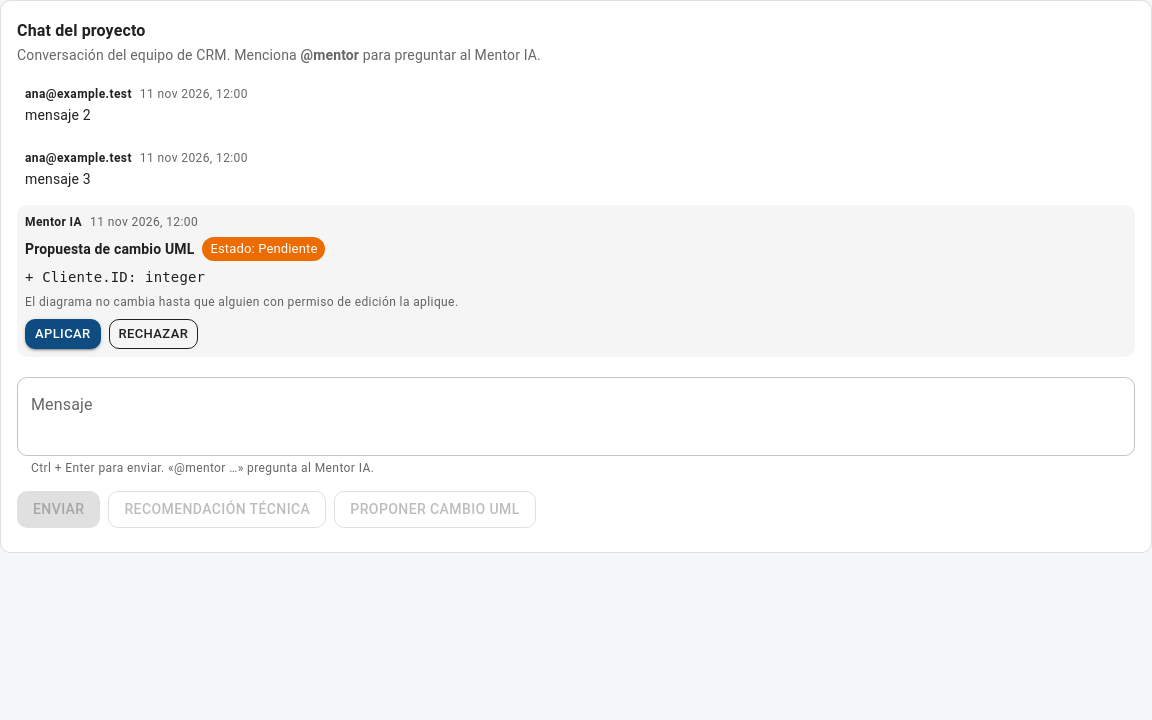
Test case: ProjectChatPanel (CU-2P-08) › una tarjeta de propuesta muestra el diff y su estado público, y la acción refresca el estado
Expected: the text "mensaje 3" is shown, [25, 171, 91, 187]
Expected: the text "+ Cliente.ID: integer" is shown, [25, 269, 205, 285]
Step 1. Click the button "Aplicar" → (63, 334), box [25, 319, 100, 350]
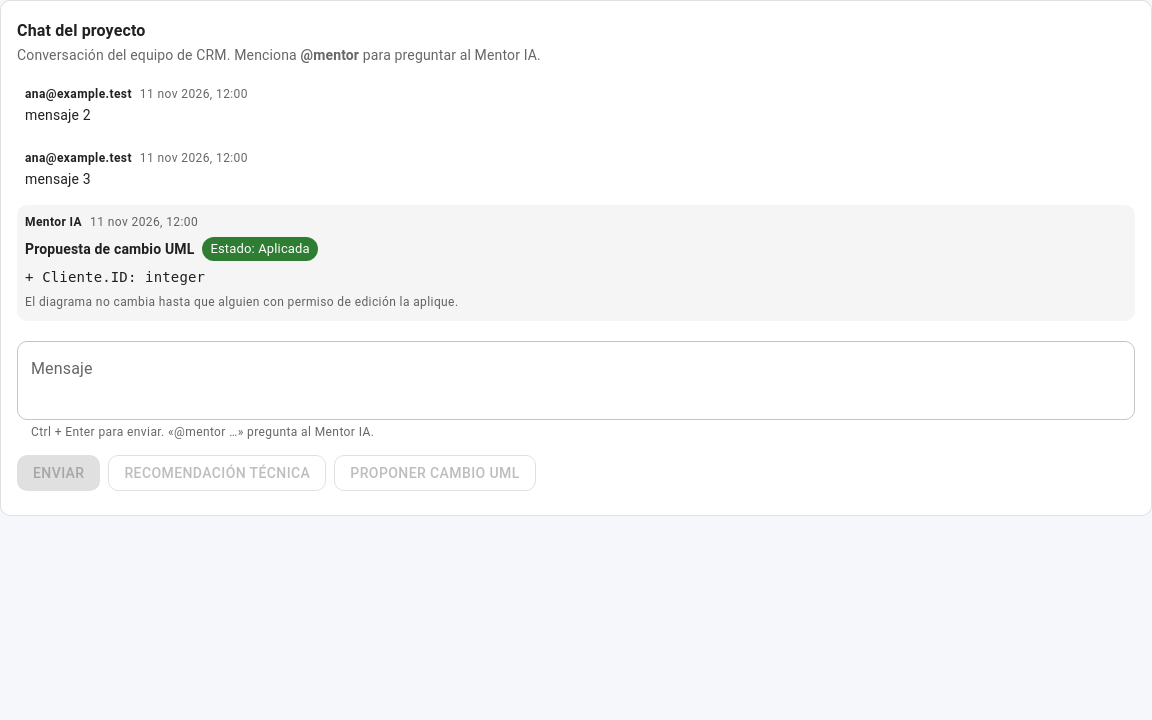
Result: the text "Estado: Aplicada" is shown at [202, 239, 318, 258]
